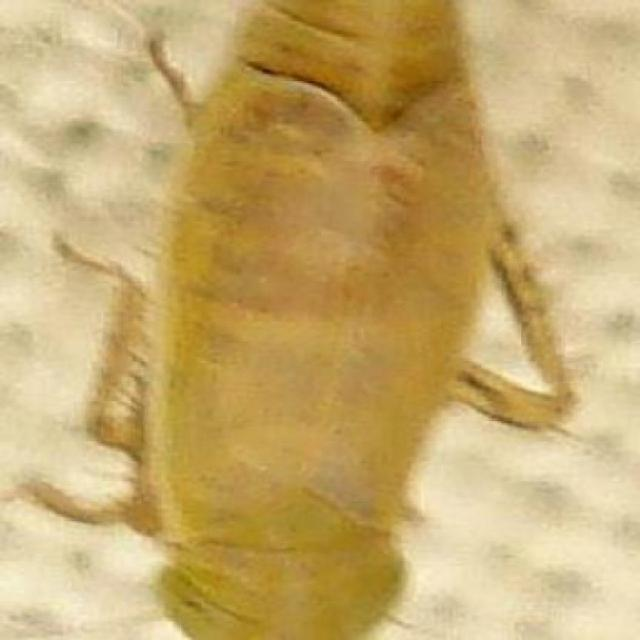green-leafhopper: (138, 0, 551, 640)
